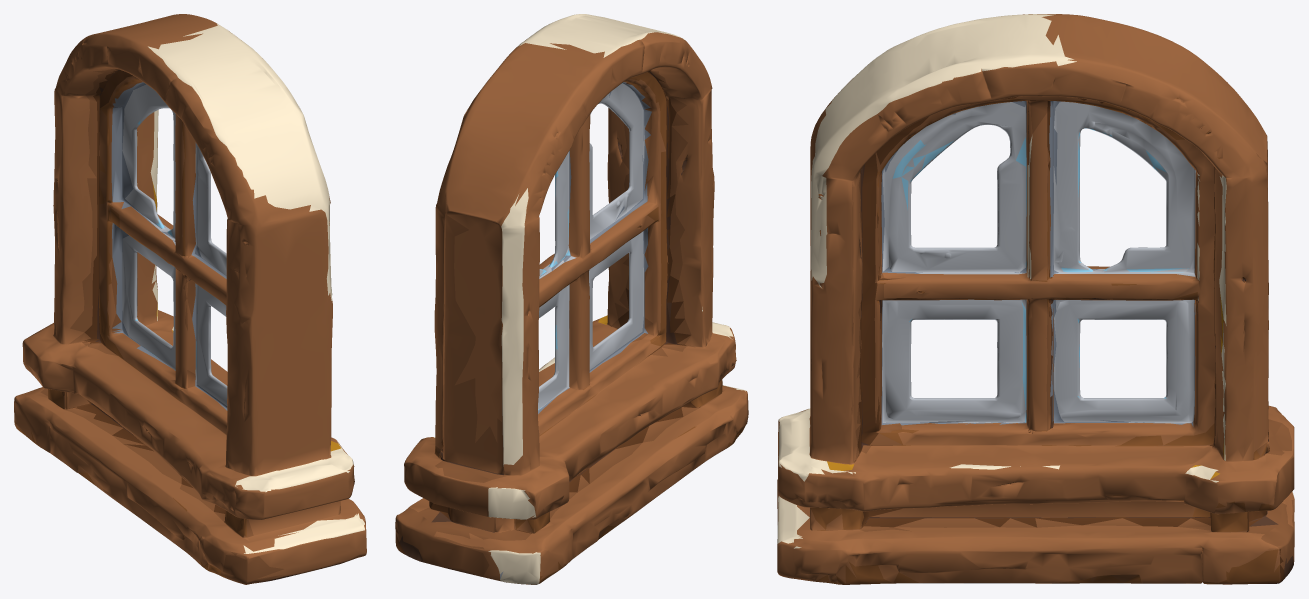
The model's file is SM_window_arched.fbx.
3 renders of one model, left to right at view 1: azimuth 30°, elevation 25°; view 2: azimuth 150°, elevation 25°; view 3: azimuth 270°, elevation 25°, orthographic. The views are drawn at different scales.
Visible parts, largest first — view 1: SM_window_arched; view 2: SM_window_arched; view 3: SM_window_arched.
Part boxes in pixels (bbox=[...]): SM_window_arched: bbox=[14, 14, 366, 584]; SM_window_arched: bbox=[395, 14, 748, 584]; SM_window_arched: bbox=[777, 14, 1294, 584].
Size of the model in its own units: 46.13 by 130 by 119.
Materials: 1 (1 with a texture image).
